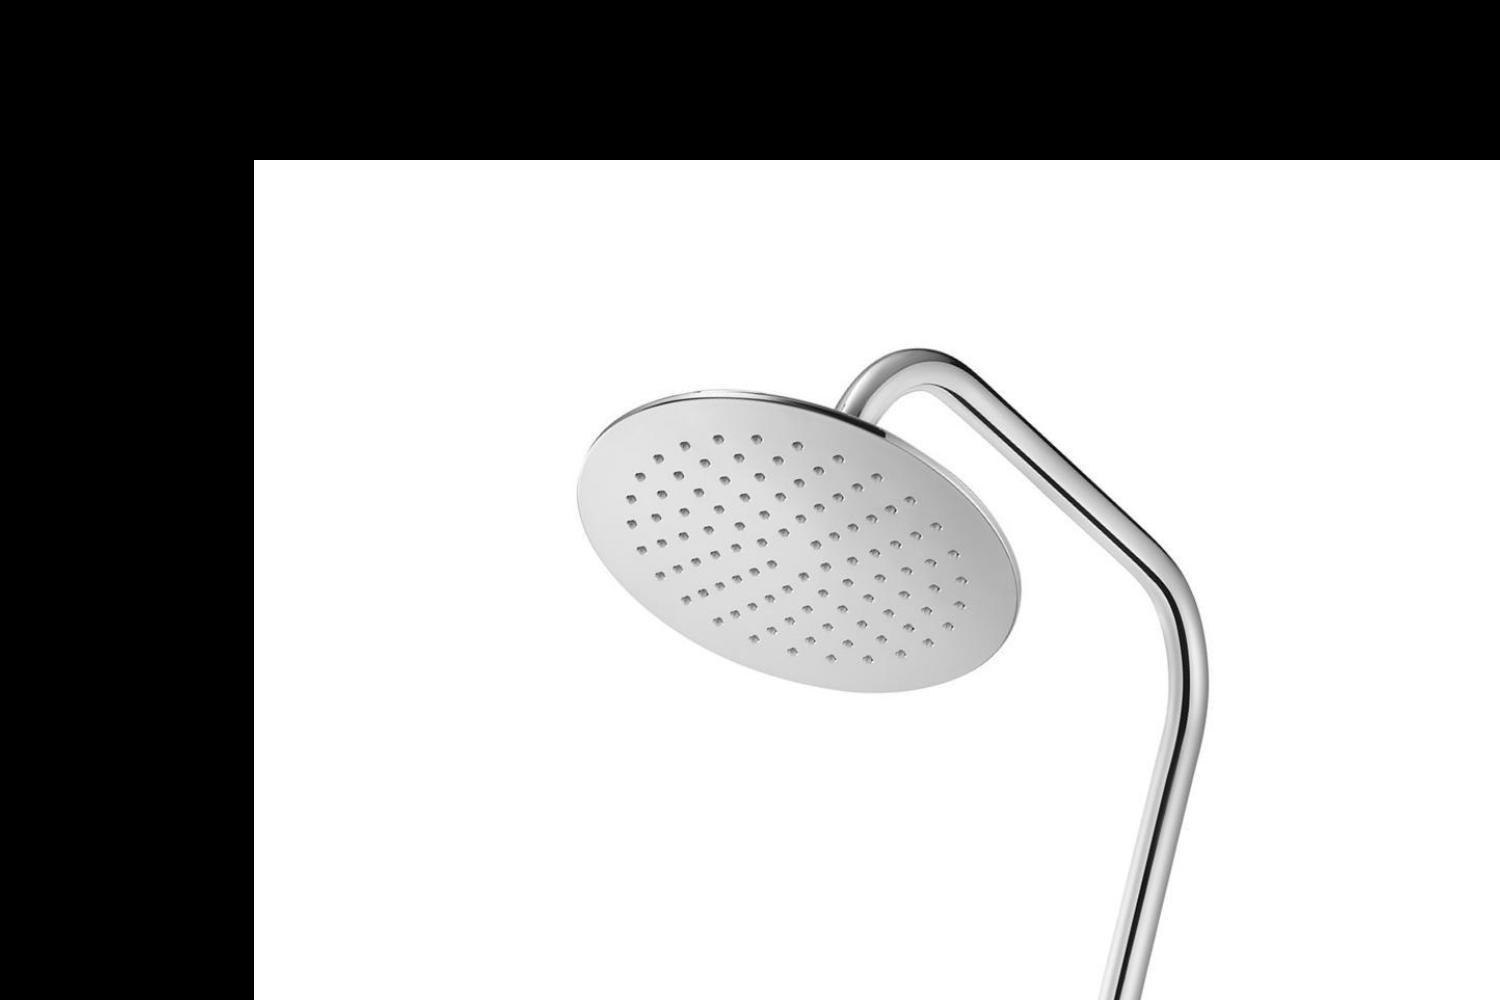Ducha: (564, 292, 1219, 1000)
